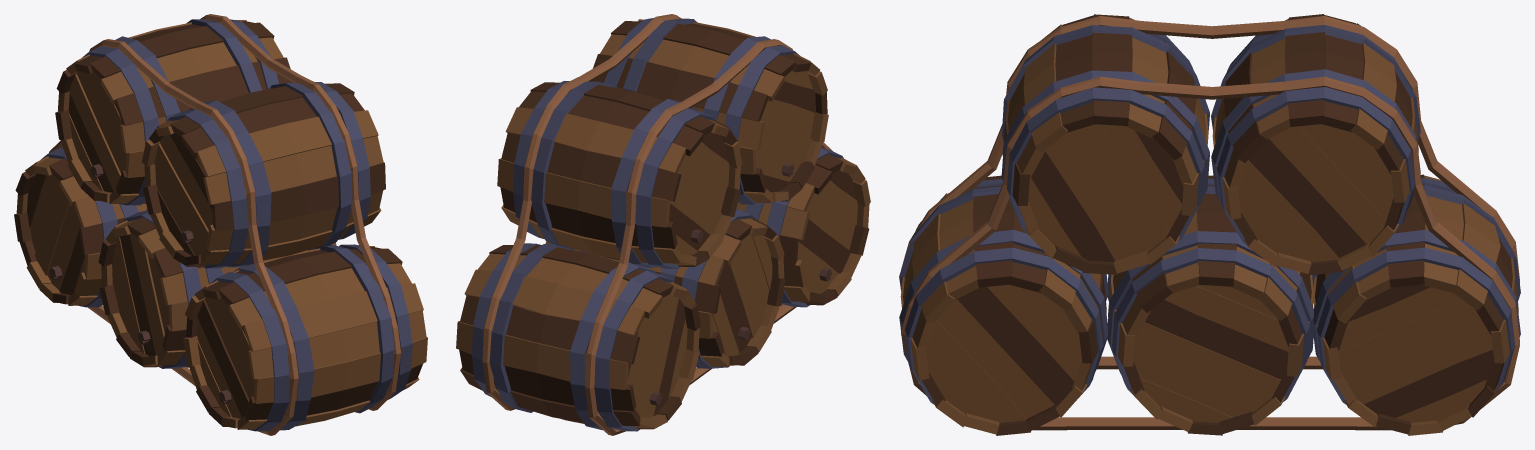
Rendered from Wooden_Barrel03.fbx.
3 renders of one model, left to right at view 1: azimuth 30°, elevation 25°; view 2: azimuth 150°, elevation 25°; view 3: azimuth 270°, elevation 25°, orthographic. The views are drawn at different scales.
Visible parts, largest first — view 1: SM_Wooden_Barrels; view 2: SM_Wooden_Barrels; view 3: SM_Wooden_Barrels.
Part boxes in pixels (<box>): SM_Wooden_Barrels: <box>14,14,427,435</box>; SM_Wooden_Barrels: <box>456,14,870,435</box>; SM_Wooden_Barrels: <box>899,14,1520,435</box>.
Size of the model in its own units: 1.91 by 3.06 by 1.19.
